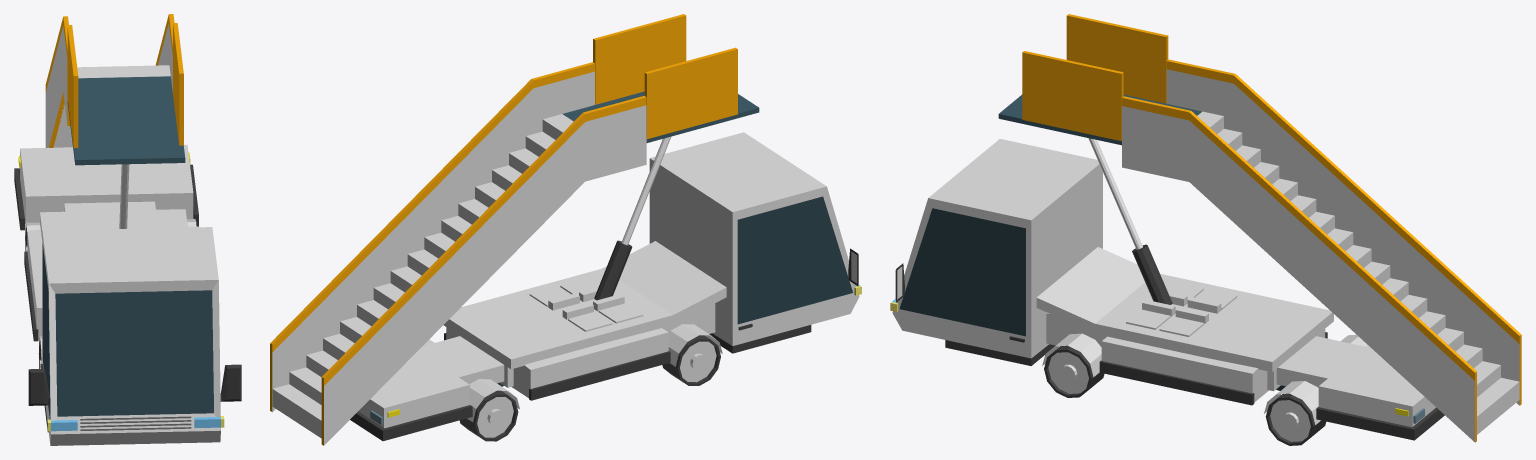
The picture shows the model from 3 angles, left to right: view 1: azimuth 30°, elevation 25°; view 2: azimuth 150°, elevation 25°; view 3: azimuth 270°, elevation 25°; orthographic projection. The views are drawn at different scales.
Parts seen in each view (by area): view 1: Truck_1; view 2: Truck_1; view 3: Truck_1.
Part boxes in pixels (x1,y1,x2,y2): Truck_1: (14, 14, 241, 445); Truck_1: (270, 14, 861, 445); Truck_1: (890, 14, 1521, 445).
Bounding box in the file's own units: 5.37 × 4.52 × 8.01.
1 material, 1 textured.
